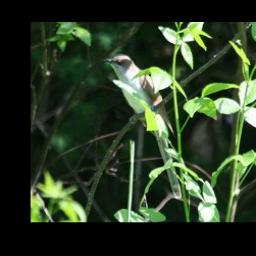Cuckoo: (101, 53, 183, 198)
